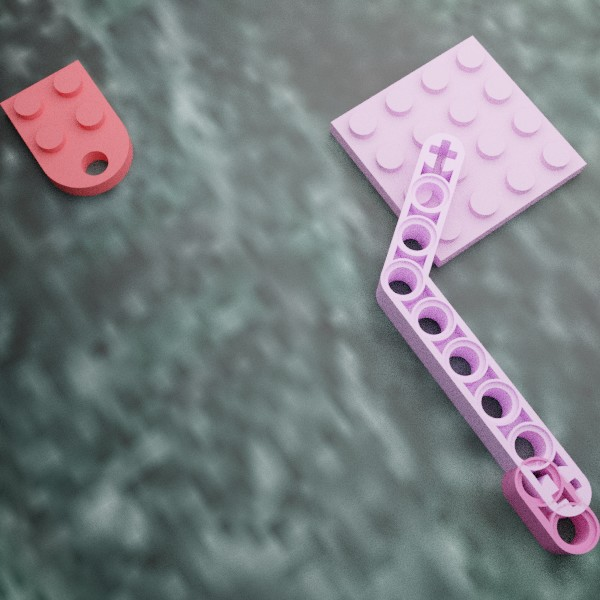lego: (376, 133, 591, 519), (330, 35, 586, 267), (0, 60, 132, 195), (501, 456, 599, 554)
